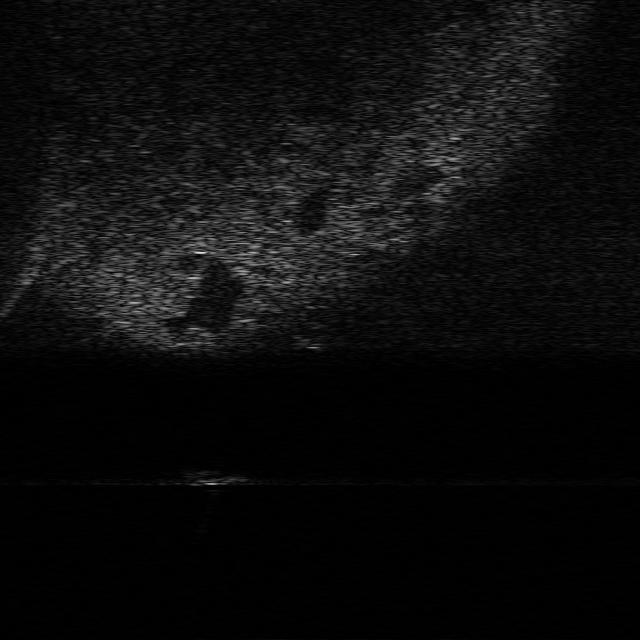cube: (185, 467, 250, 488)
